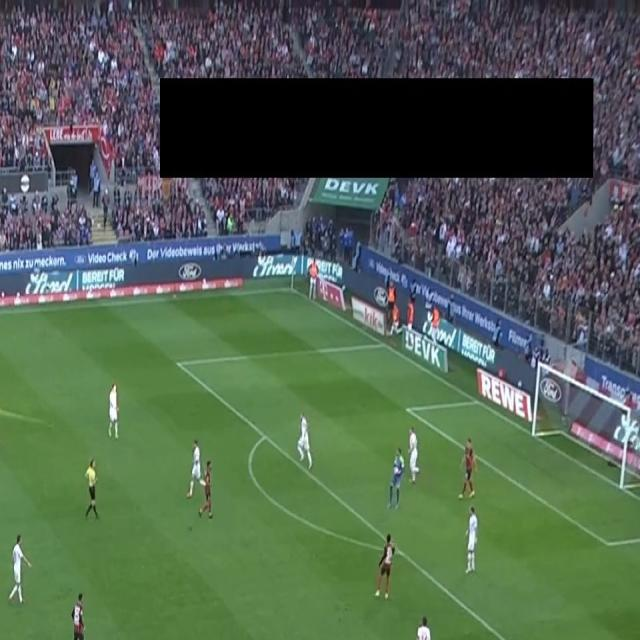ball: (394, 466, 399, 475)
